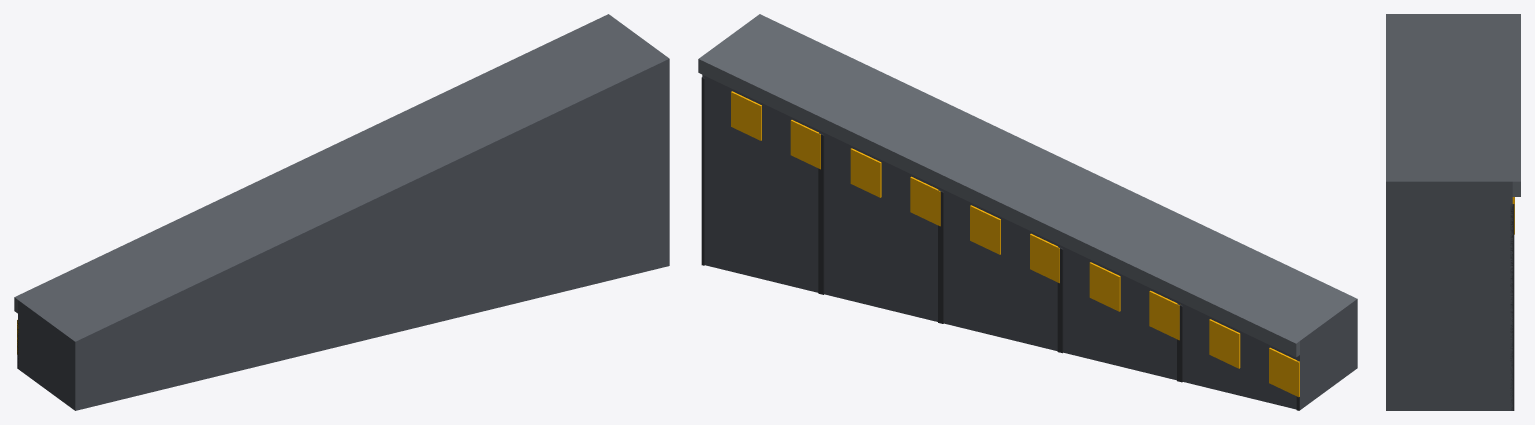
3 views of the same model, side by side, from view 1: azimuth 30°, elevation 25°; view 2: azimuth 150°, elevation 25°; view 3: azimuth 270°, elevation 25° (orthographic). The views are drawn at different scales.
Parts seen in each view (by area): view 1: b1w; view 2: b1w; view 3: b1w.
Boxes of the visible parts, x1=… form: b1w: x1=14, y1=14, x2=669, y2=410; b1w: x1=698, y1=14, x2=1357, y2=410; b1w: x1=1386, y1=14, x2=1520, y2=410.
Size of the model in its own units: 9 by 3 by 1.6.
